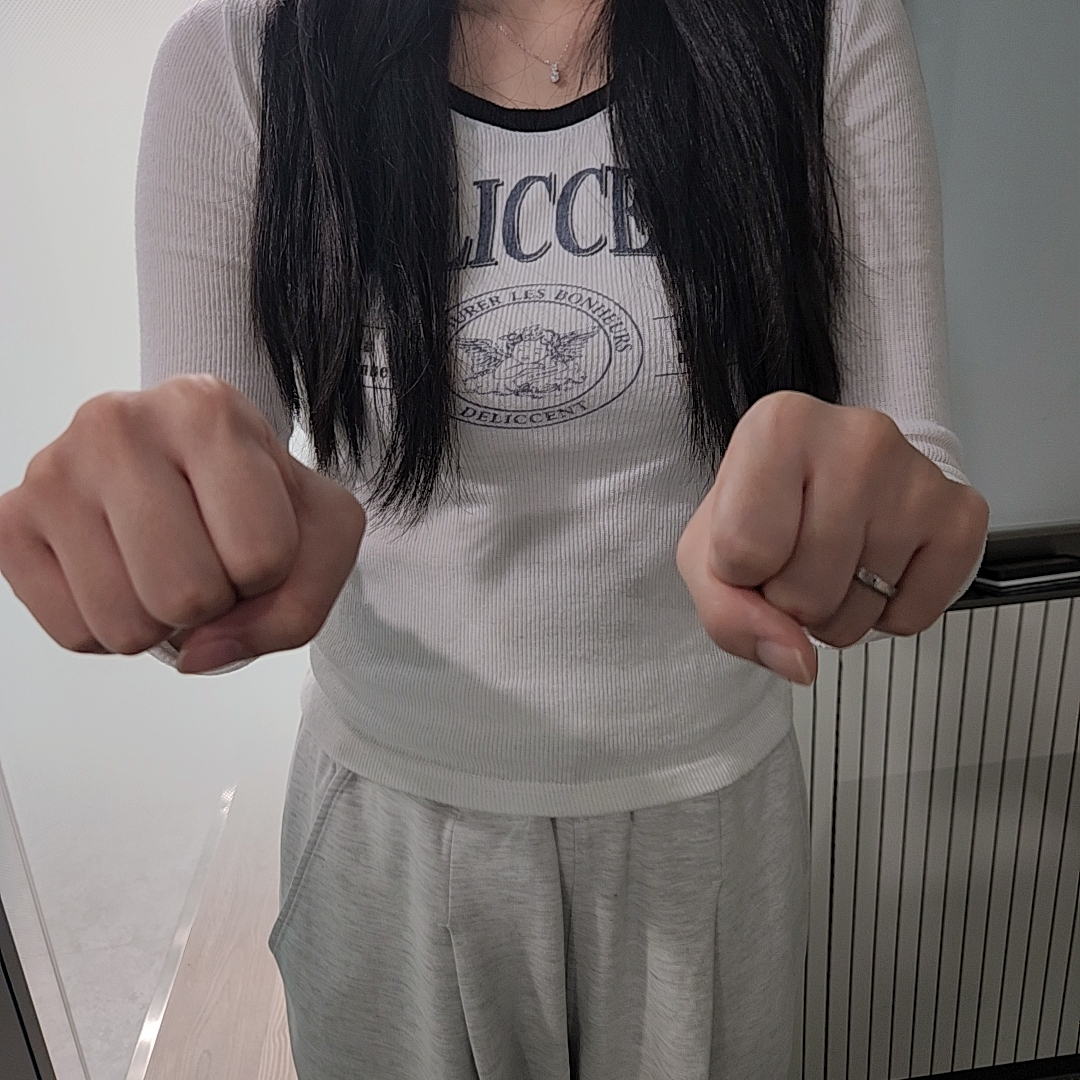hello: (5, 376, 987, 684)
